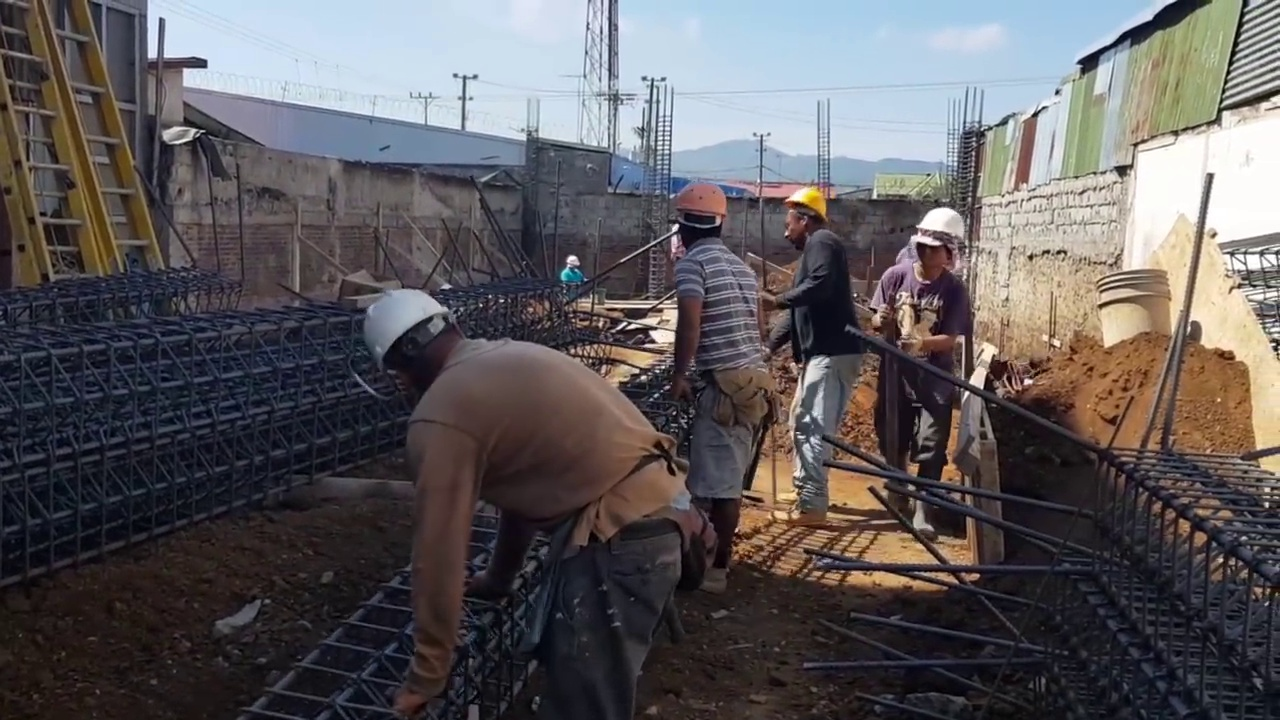helmet: (359, 293, 453, 387), (671, 180, 726, 224), (784, 186, 832, 223), (917, 209, 962, 245), (565, 255, 581, 267)
helmet-off: (665, 211, 680, 230)
helmet-on: (358, 292, 472, 396), (908, 211, 968, 288), (670, 181, 727, 254), (783, 187, 833, 245), (564, 255, 581, 273)
person: (357, 295, 700, 717), (667, 182, 775, 589), (880, 210, 986, 536), (780, 179, 877, 514), (559, 255, 587, 294), (665, 211, 685, 265)
